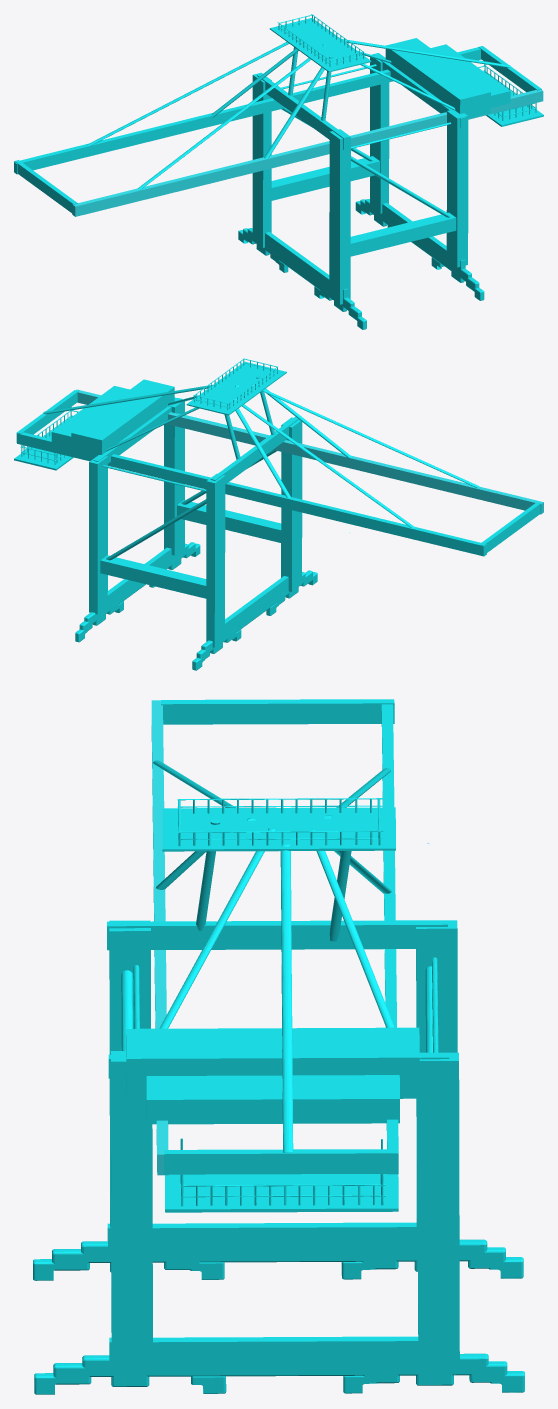
File: anqiao.glb
3 renders of one model, top to bottom at view 1: azimuth 30°, elevation 25°; view 2: azimuth 150°, elevation 25°; view 3: azimuth 270°, elevation 25°, orthographic. The views are drawn at different scales.
Visible parts, largest first — view 1: 圆柱.001; view 2: 圆柱.001; view 3: 圆柱.001.
Part boxes in pixels (box(x1,y1,x2,y2)): 圆柱.001: box(14, 14, 543, 329); 圆柱.001: box(14, 358, 543, 670); 圆柱.001: box(33, 699, 524, 1394).
Bounding box in the file's own units: 47.95 × 23.54 × 21.78.
